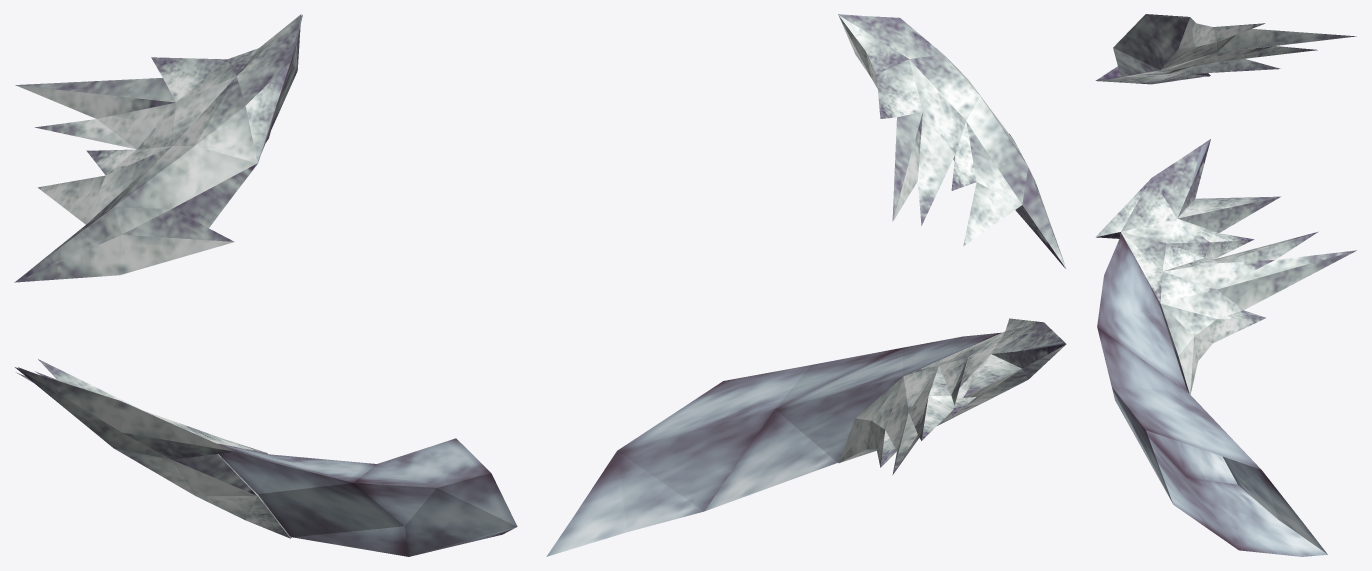
The picture shows the model from 3 angles, left to right: view 1: azimuth 30°, elevation 25°; view 2: azimuth 150°, elevation 25°; view 3: azimuth 270°, elevation 25°; orthographic projection. The views are drawn at different scales.
Parts seen in each view (by area): view 1: B_0080_1a_0; view 2: B_0080_1a_0; view 3: B_0080_1a_0.
Part boxes in pixels (x1=…): B_0080_1a_0: x1=14, y1=14, x2=517, y2=556; B_0080_1a_0: x1=546, y1=14, x2=1066, y2=556; B_0080_1a_0: x1=1095, y1=14, x2=1356, y2=556.
Size of the model in its own units: 4 by 4.54 by 2.38.
1 material, 1 textured.
